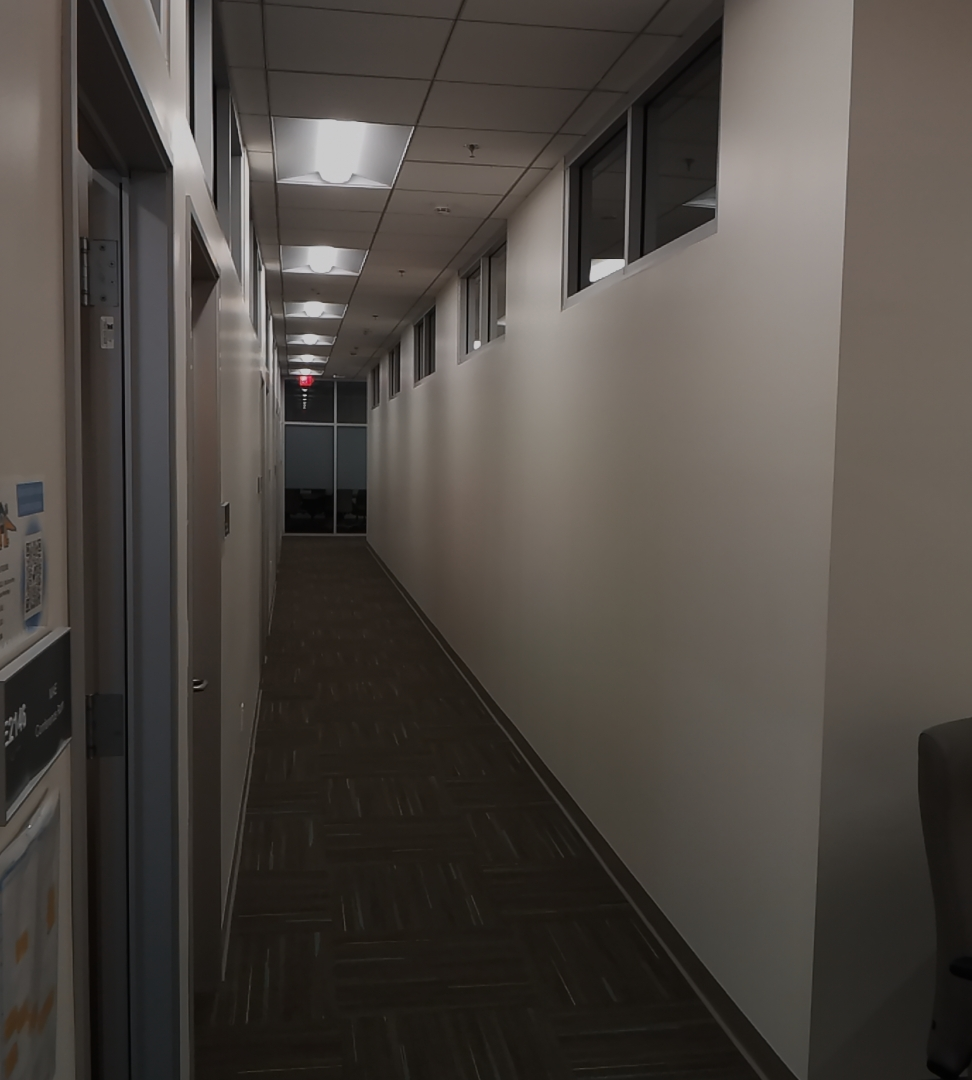emergency_exit: (1, 624, 74, 825)
